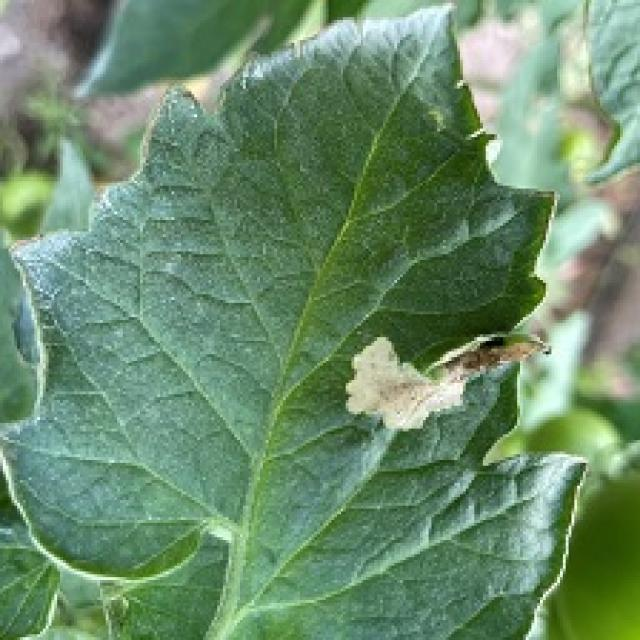Tuta absoluta: (345, 336, 546, 429)
